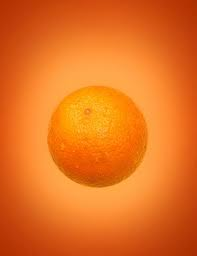orange: (44, 83, 152, 189)
